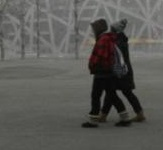person: (81, 17, 133, 128), (92, 18, 146, 124)
